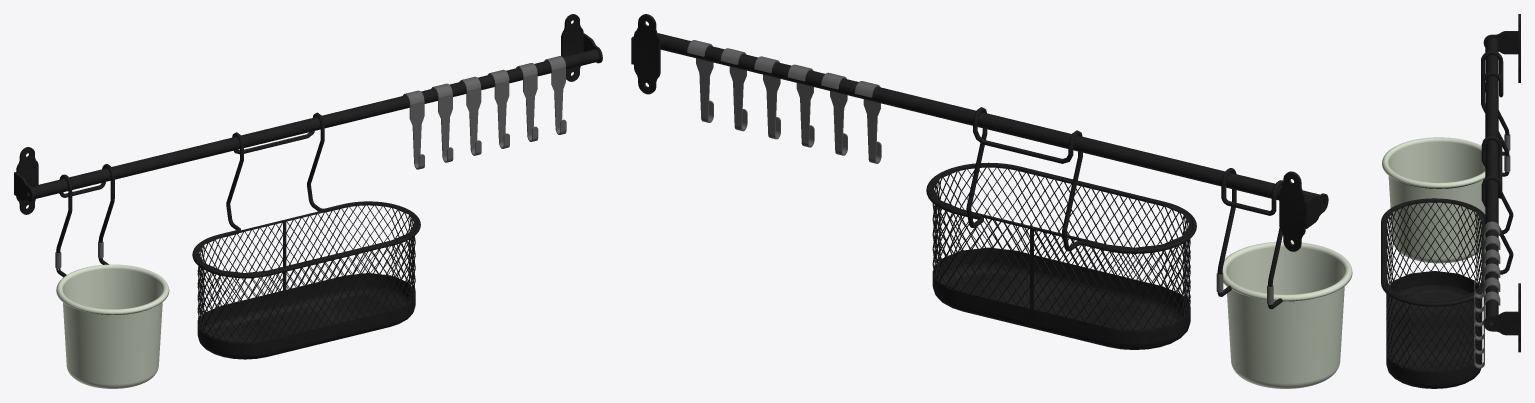
The model's file is 079 - stand divari jadid meshki goldan sabz.glb.
3 views of the same model, side by side, from view 1: azimuth 30°, elevation 25°; view 2: azimuth 150°, elevation 25°; view 3: azimuth 270°, elevation 25° (orthographic). The views are drawn at different scales.
Visible parts, largest first — view 1: Group#5 [141385], Group#30 [143057], Group#17 [141384], Group#4 [143069], Group#2 [180874] (×6), Group#28 [143081], [127304], Group#25 [143083], [75130], [74247]; view 2: Group#30 [143057], Group#5 [141385], Group#17 [141384], Group#4 [143069], Group#2 [180874] (×6), Group#28 [143081], [75130], [74247], [127304], Group#25 [143083]; view 3: Group#30 [143057], Group#17 [141384], Group#5 [141385], Group#4 [143069], Group#28 [143081], Group#2 [180874] (×6), Group#159 [75666] (×2), [127304], Group#25 [143083], [74247], [75130].
Boxes of the visible parts, left/top/right/bottom form: Group#5 [141385]: left=197, top=203, right=415, bottom=343; Group#30 [143057]: left=56, top=264, right=169, bottom=388; Group#17 [141384]: left=197, top=274, right=415, bottom=359; Group#4 [143069]: left=31, top=49, right=599, bottom=199; Group#2 [180874] (×6): left=403, top=56, right=566, bottom=169; Group#28 [143081]: left=192, top=112, right=420, bottom=278; [127304]: left=56, top=164, right=146, bottom=314; Group#25 [143083]: left=196, top=202, right=417, bottom=274; [75130]: left=561, top=14, right=583, bottom=81; [74247]: left=16, top=147, right=38, bottom=214; Group#30 [143057]: left=1222, top=241, right=1352, bottom=388; Group#5 [141385]: left=932, top=165, right=1190, bottom=331; Group#17 [141384]: left=932, top=249, right=1190, bottom=349; Group#4 [143069]: left=657, top=33, right=1319, bottom=200; Group#2 [180874] (×6): left=687, top=40, right=881, bottom=163; Group#28 [143081]: left=926, top=107, right=1196, bottom=253; [75130]: left=634, top=14, right=660, bottom=94; [74247]: left=1279, top=171, right=1305, bottom=251; [127304]: left=1217, top=168, right=1308, bottom=309; Group#25 [143083]: left=930, top=164, right=1192, bottom=248; Group#30 [143057]: left=1382, top=137, right=1485, bottom=263; Group#17 [141384]: left=1386, top=272, right=1482, bottom=388; Group#5 [141385]: left=1386, top=200, right=1482, bottom=372; Group#4 [143069]: left=1485, top=37, right=1498, bottom=324; Group#28 [143081]: left=1381, top=136, right=1513, bottom=306; Group#2 [180874] (×6): left=1474, top=221, right=1500, bottom=368; Group#159 [75666] (×2): left=1483, top=31, right=1520, bottom=335; [127304]: left=1399, top=50, right=1509, bottom=188; Group#25 [143083]: left=1384, top=199, right=1484, bottom=302; [74247]: left=1518, top=14, right=1520, bottom=82; [75130]: left=1518, top=283, right=1520, bottom=352.
Size of the model in its own units: 0.806 by 0.2792 by 0.1691.
5 materials, 3 textured.
